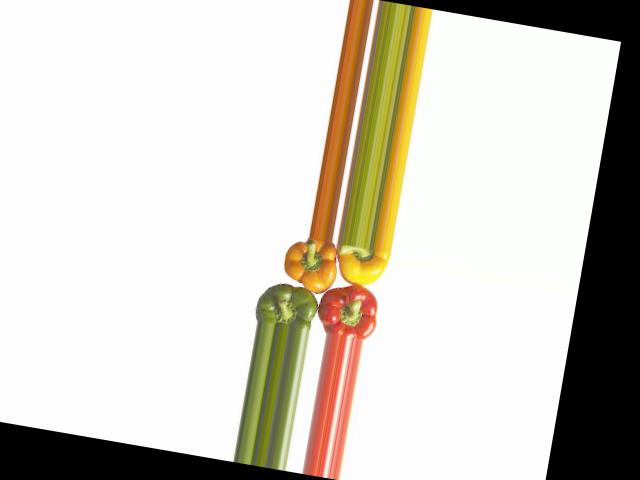bell_pepper: (327, 241, 392, 292)
